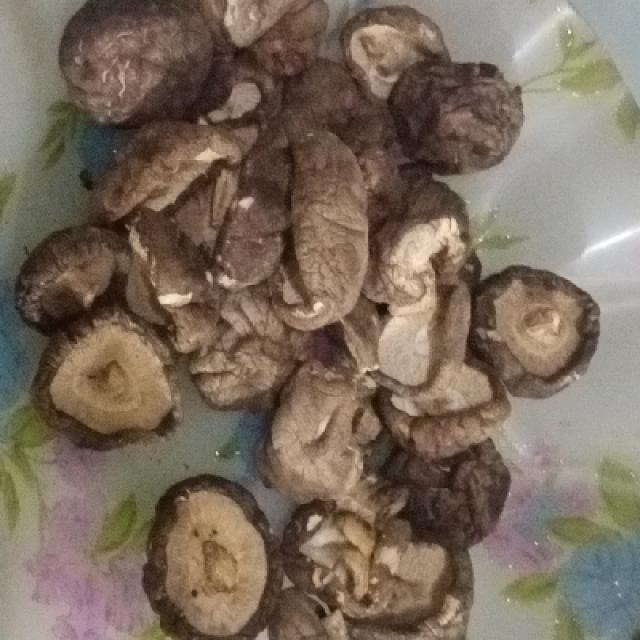Lentinus edodes: (282, 500, 473, 636), (378, 282, 506, 458), (60, 0, 231, 131), (149, 474, 279, 640), (43, 315, 187, 451), (476, 264, 606, 396), (391, 59, 523, 171), (339, 5, 451, 104), (21, 227, 127, 331)
